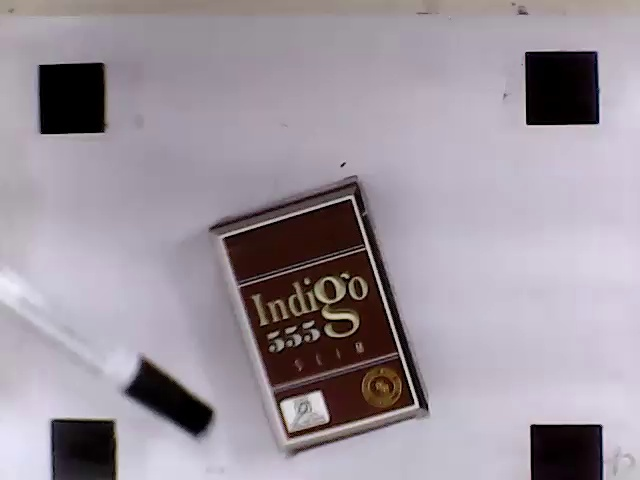BEX: (222, 195, 416, 442)
